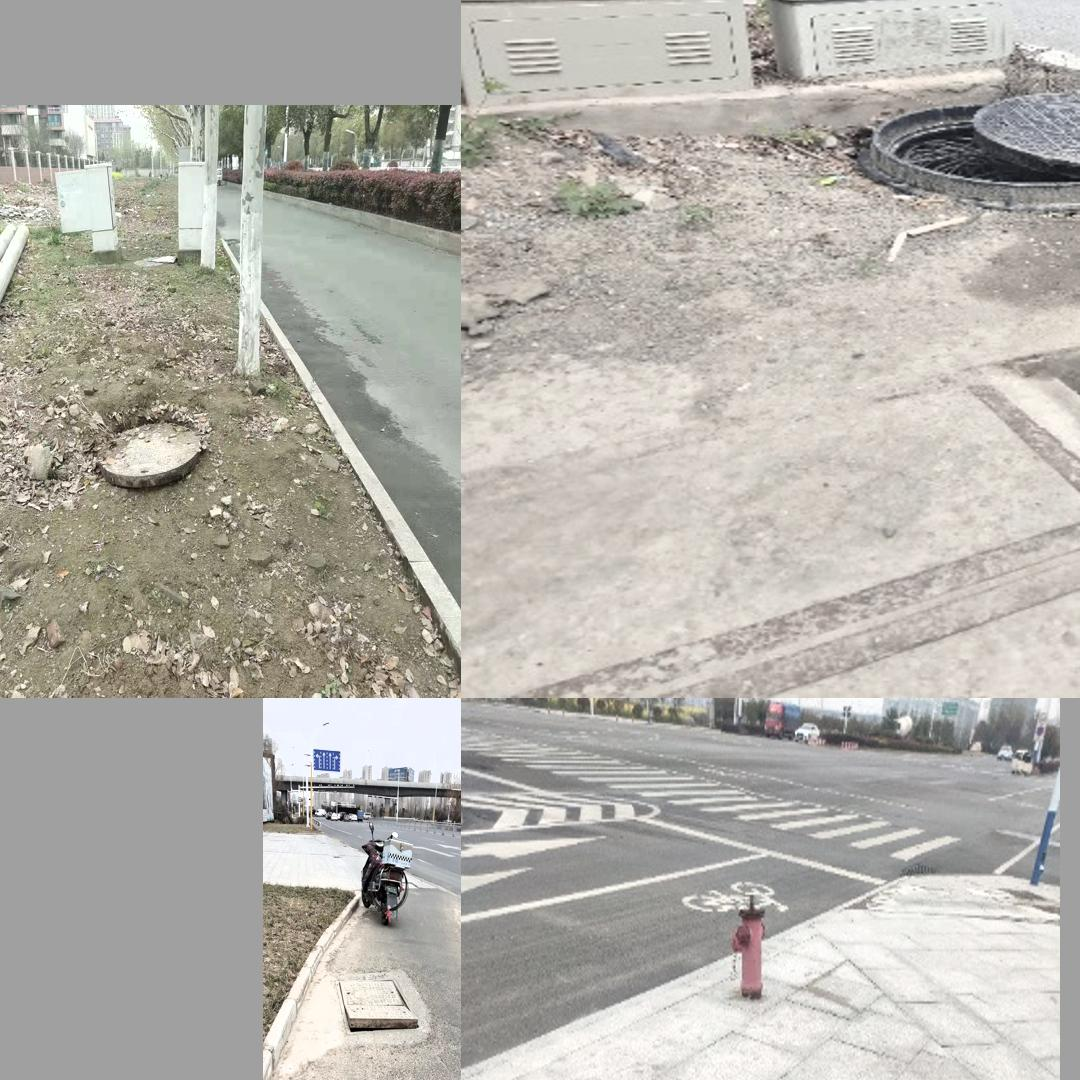uncovered: (870, 91, 1080, 201), (97, 425, 201, 490), (336, 977, 419, 1036)
